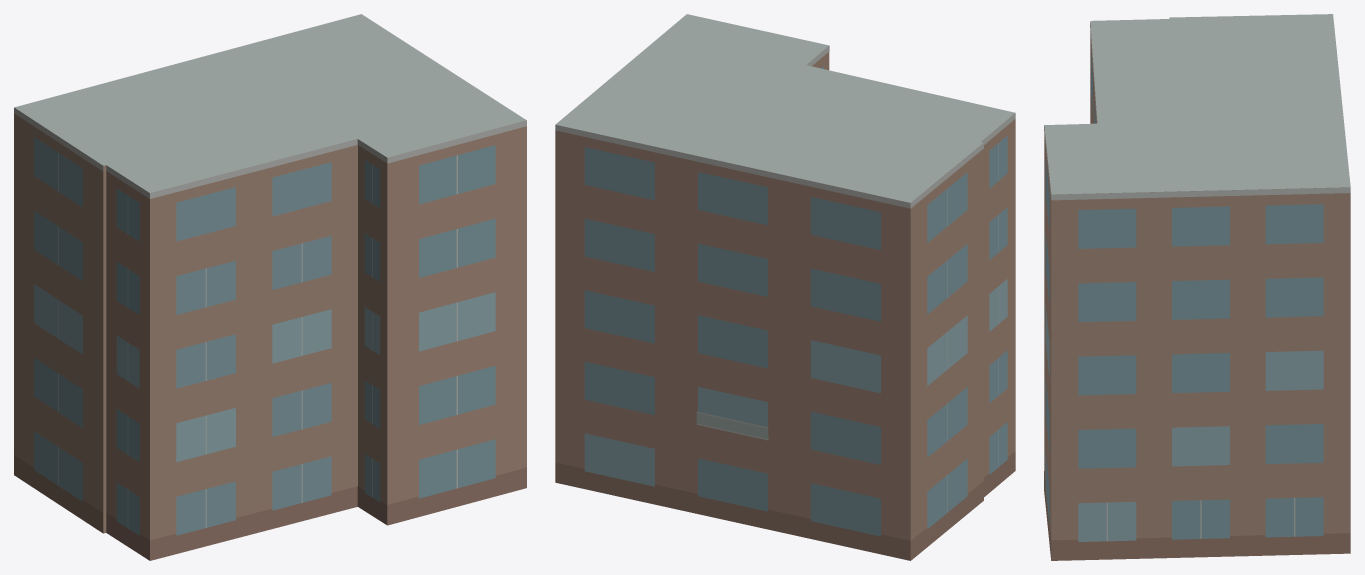
File: survey-upis-33043449.glb
3 renders of one model, left to right at view 1: azimuth 30°, elevation 25°; view 2: azimuth 150°, elevation 25°; view 3: azimuth 270°, elevation 25°, orthographic. The views are drawn at different scales.
Parts seen in each view (by area): view 1: survey-upis-33043449.tmp; view 2: survey-upis-33043449.tmp; view 3: survey-upis-33043449.tmp.
Part boxes in pixels (x1,y1,x2,y2): survey-upis-33043449.tmp: [14, 14, 526, 560]; survey-upis-33043449.tmp: [555, 14, 1015, 560]; survey-upis-33043449.tmp: [1044, 14, 1350, 560].
Size of the model in its own units: 16.13 by 15.25 by 11.57.
